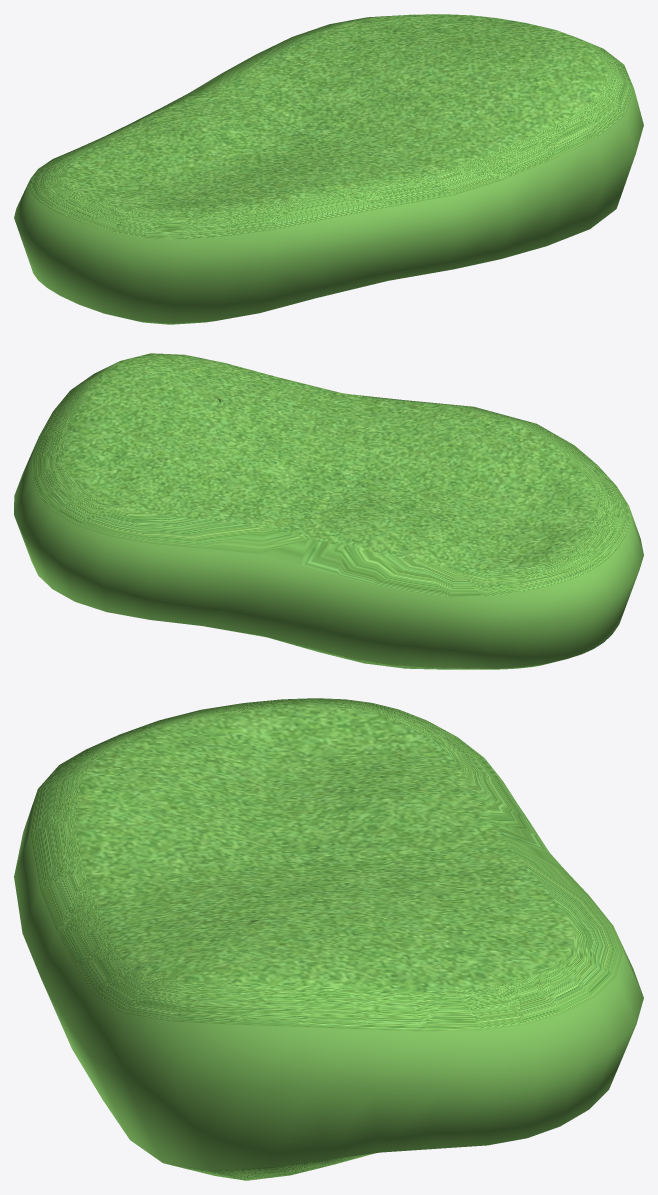
The model's file is HikeGardenBeanA.obj.
3 views of the same model, one above another, from view 1: azimuth 30°, elevation 25°; view 2: azimuth 150°, elevation 25°; view 3: azimuth 270°, elevation 25° (orthographic). The views are drawn at different scales.
Visible parts, largest first — view 1: mesh-0.001_meshId0_name.001; view 2: mesh-0.001_meshId0_name.001; view 3: mesh-0.001_meshId0_name.001.
Part boxes in pixels (box(x1,y1,x2,y2)): mesh-0.001_meshId0_name.001: box(14, 14, 643, 324); mesh-0.001_meshId0_name.001: box(14, 353, 643, 669); mesh-0.001_meshId0_name.001: box(14, 698, 643, 1180).
Bounding box in the file's own units: 7835 × 2250 × 5388.
Materials: 1 (1 with a texture image).
